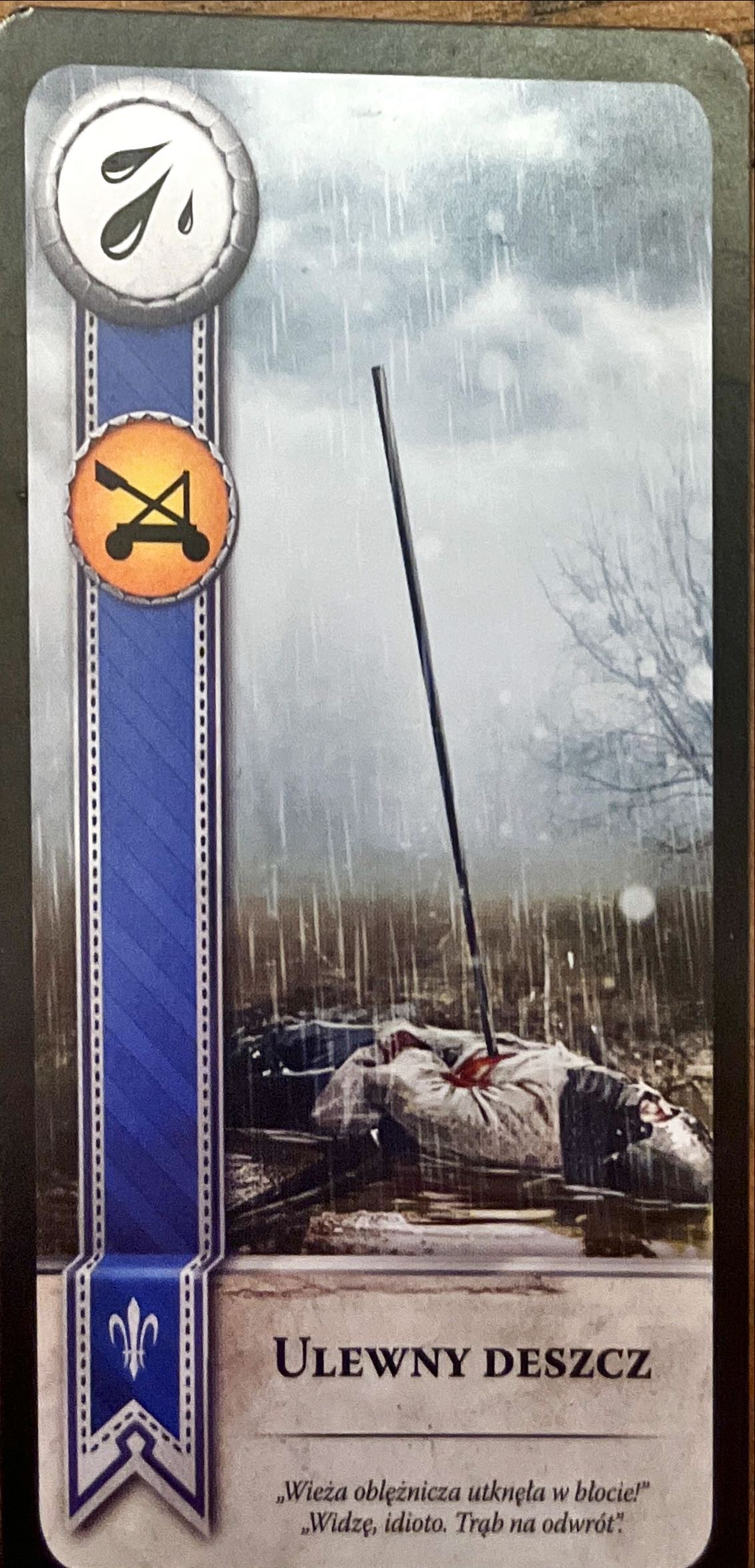deszcz: (36, 76, 262, 326)
katapulta: (61, 410, 238, 609)
